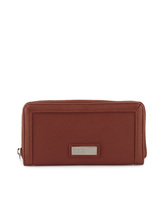other: (18, 99, 151, 168)
